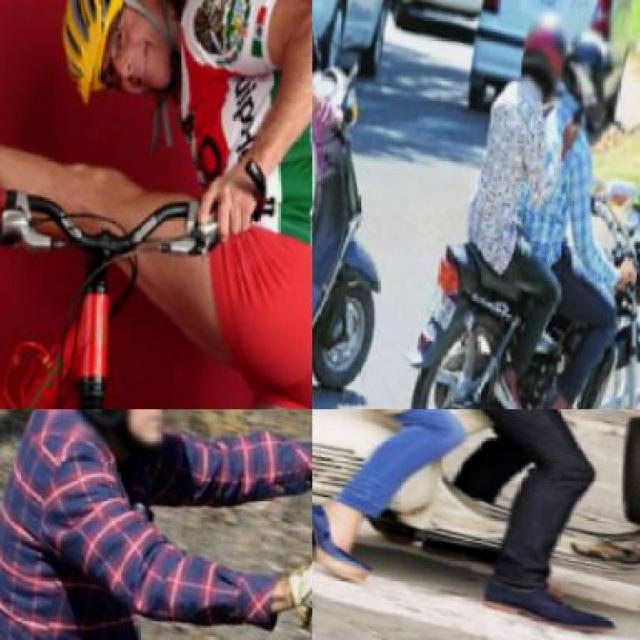With Helmet: (31, 0, 208, 143), (549, 0, 627, 132), (40, 409, 212, 468), (512, 0, 577, 100)
